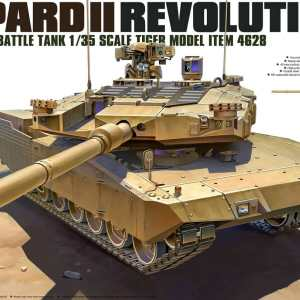Battle Tank: (1, 64, 300, 271)
